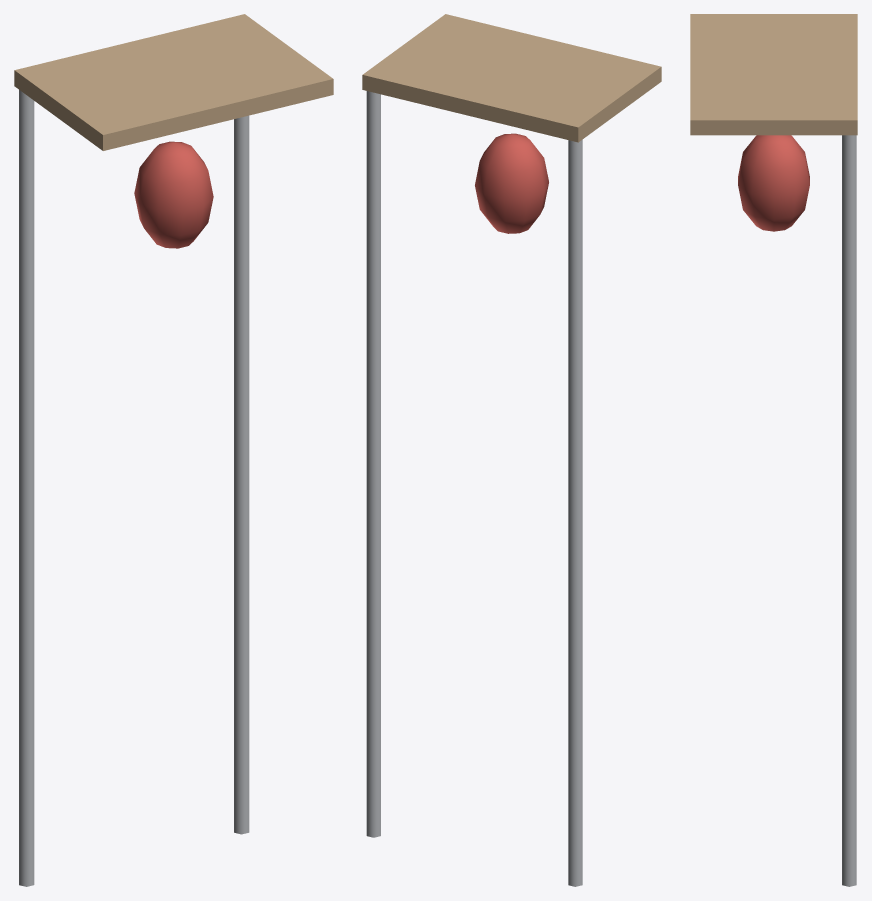
The model's file is speed_bag.glb.
The picture shows the model from 3 angles, left to right: view 1: azimuth 30°, elevation 25°; view 2: azimuth 150°, elevation 25°; view 3: azimuth 270°, elevation 25°; orthographic projection. The views are drawn at different scales.
Parts seen in each view (by area): view 1: SpeedBag; view 2: SpeedBag; view 3: SpeedBag.
Part boxes in pixels (x1,y1,x2,y2): SpeedBag: [14, 14, 333, 886]; SpeedBag: [362, 14, 661, 886]; SpeedBag: [690, 14, 857, 886].
Bounding box in the file's own units: 0.6 × 2.02 × 0.4.
